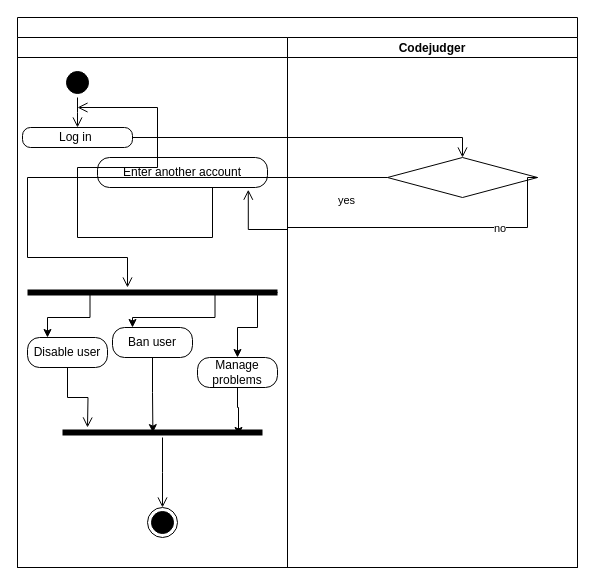
This 595x585 diagram has some shape labels left out. The box of each missing label's shape, as (x1, y1, x2, y2) in pixels:
Admin: (16, 36, 288, 568)
Is account an admin: (386, 156, 538, 198)
